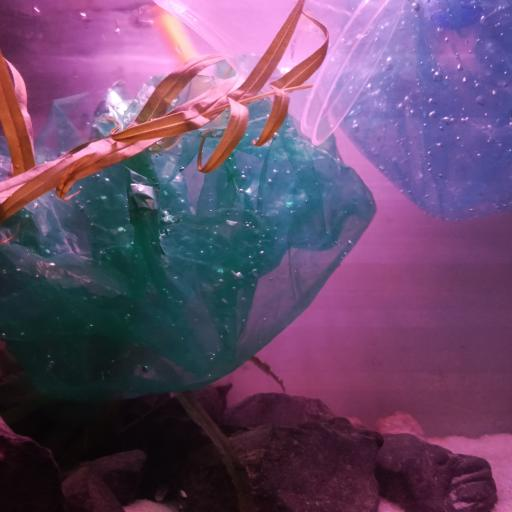plastic_bag: (2, 57, 378, 404), (329, 0, 512, 223)
plastic_cup: (153, 0, 410, 148)
